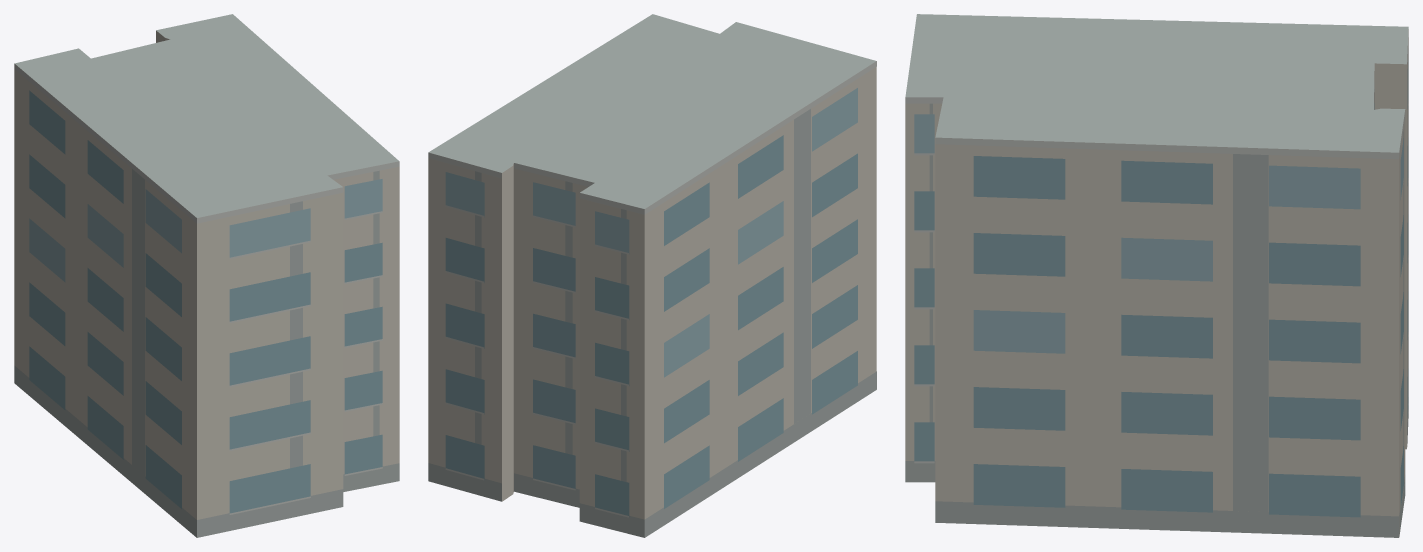
Rendered from survey-upis-32763158.glb.
3 renders of one model, left to right at view 1: azimuth 30°, elevation 25°; view 2: azimuth 150°, elevation 25°; view 3: azimuth 270°, elevation 25°, orthographic. The views are drawn at different scales.
Visible parts, largest first — view 1: survey-upis-32763158.tmp; view 2: survey-upis-32763158.tmp; view 3: survey-upis-32763158.tmp.
Boxes of the visible parts, <box> form: survey-upis-32763158.tmp: <box>14,14,399,537</box>; survey-upis-32763158.tmp: <box>428,14,876,537</box>; survey-upis-32763158.tmp: <box>905,14,1408,537</box>.
Bounding box in the file's own units: 10.99 × 14.22 × 16.85.
